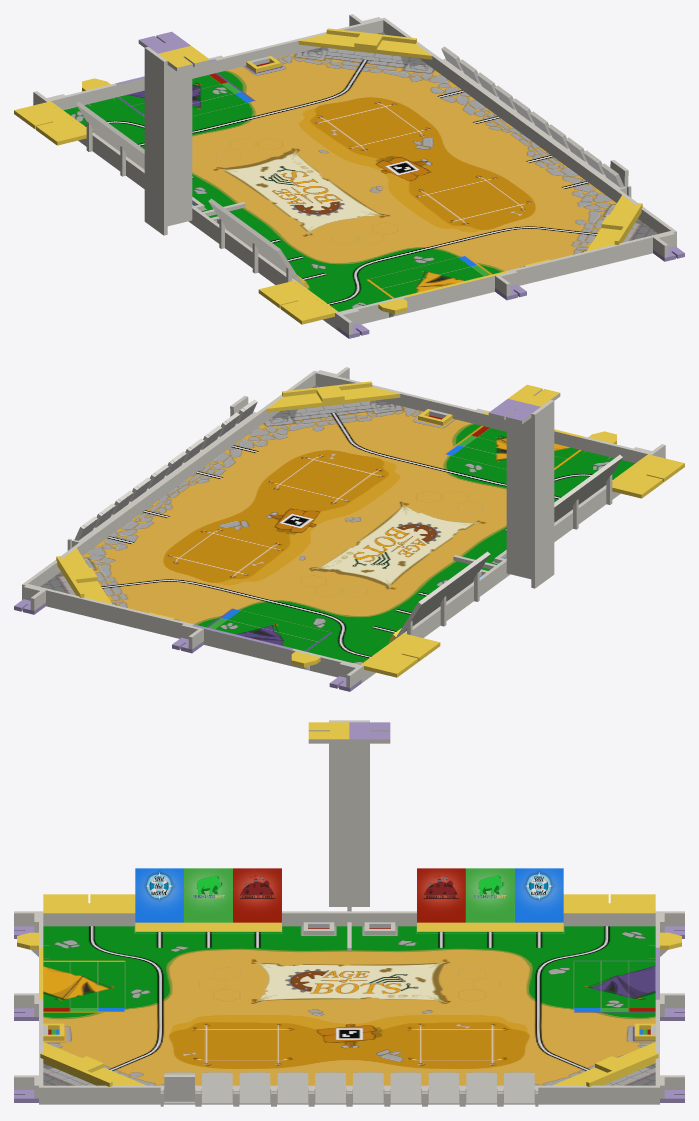
The model's file is table.dae.
3 renders of one model, top to bottom at view 1: azimuth 30°, elevation 25°; view 2: azimuth 150°, elevation 25°; view 3: azimuth 270°, elevation 25°, orthographic. The views are drawn at different scales.
Visible parts, largest first — view 1: TABLE_2022.002; view 2: TABLE_2022.002; view 3: TABLE_2022.002.
Boxes of the visible parts, <box> form: TABLE_2022.002: <box>14,14,684,338</box>; TABLE_2022.002: <box>14,367,684,691</box>; TABLE_2022.002: <box>14,720,684,1106</box>.
Size of the model in its own units: 2.34 by 3.29 by 1.02.
7 materials, 3 textured.
